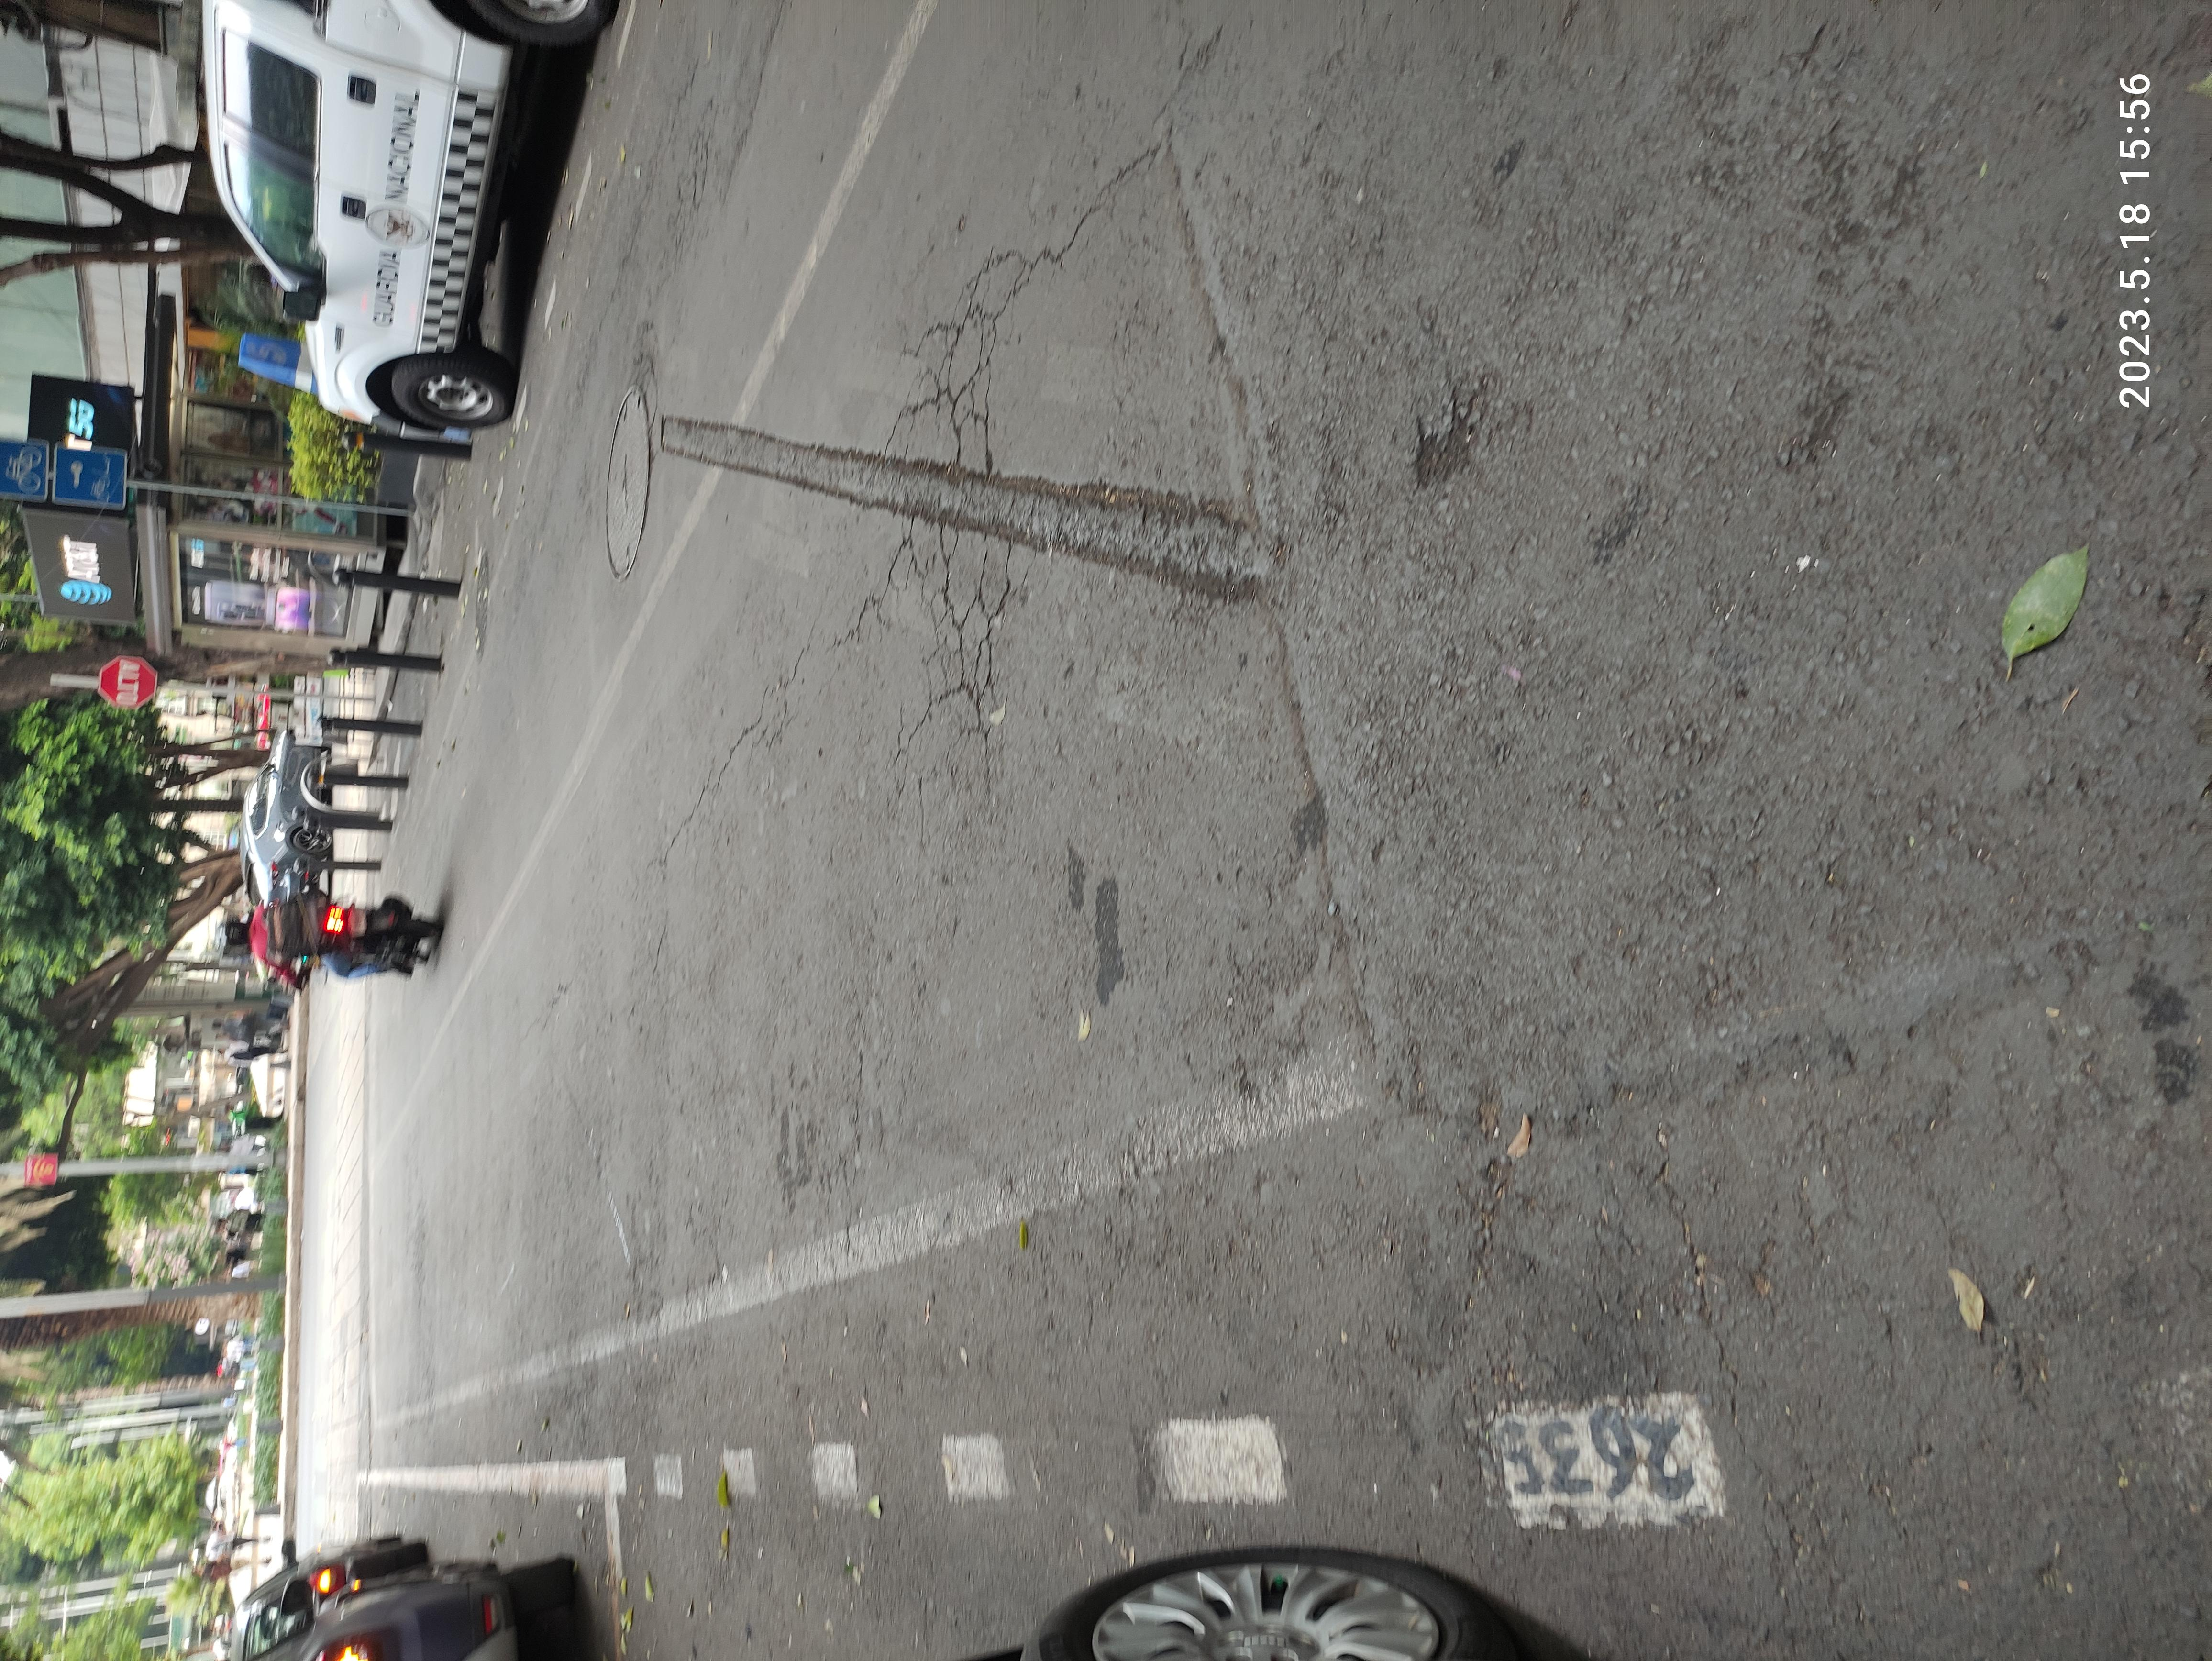alligator-crack: (1115, 637, 1519, 759), (1574, 668, 1875, 769)
crack: (1052, 494, 1308, 584), (825, 401, 907, 427)
pothole: (1404, 487, 1659, 956), (1539, 1052, 1694, 1113)
